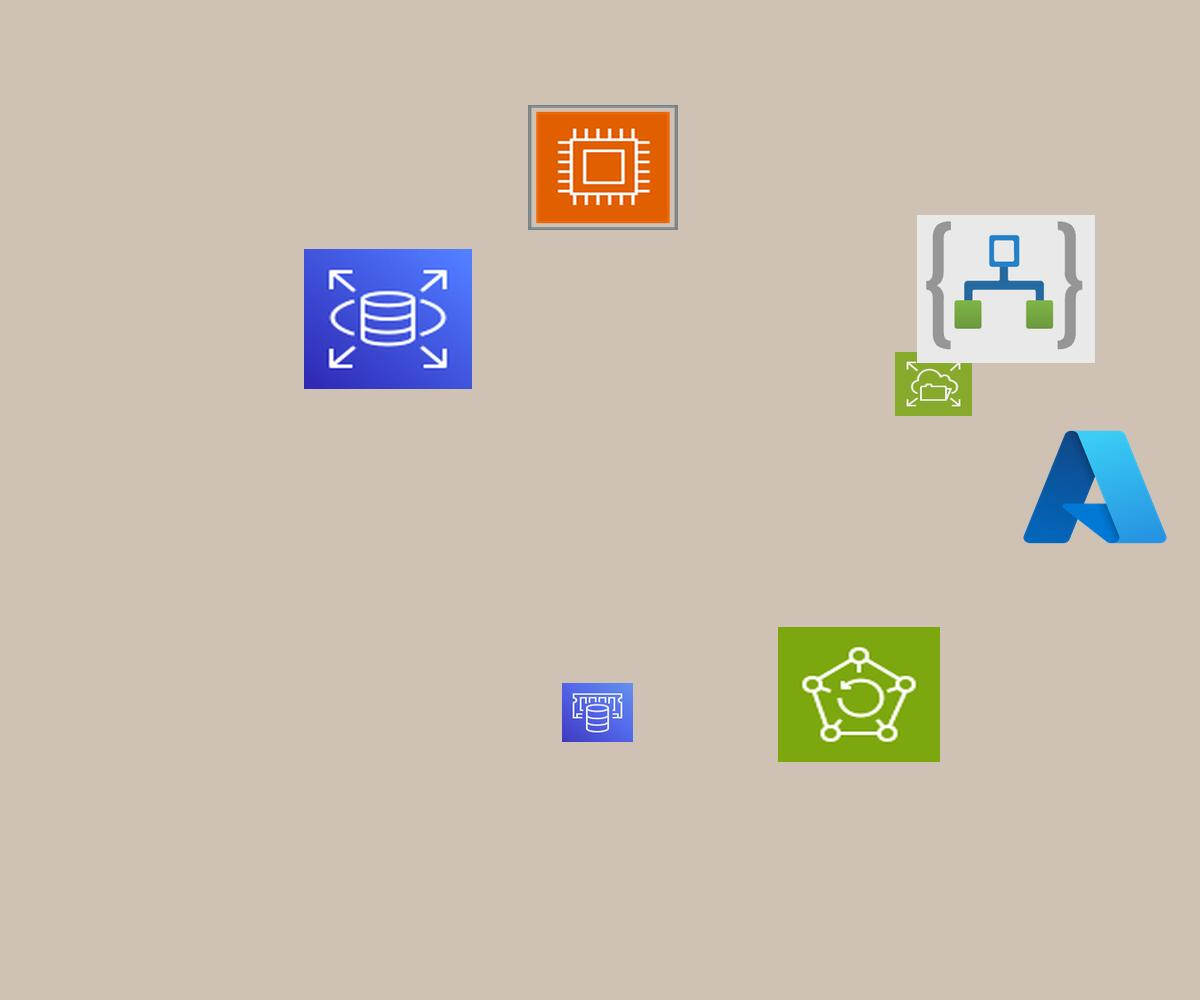AWS-Backup: (778, 627, 940, 762)
AWS-Category_Compute: (528, 105, 678, 230)
AWS-EFS: (895, 352, 972, 416)
AWS-ElastiCache: (562, 683, 633, 742)
AWS-RDS: (304, 249, 472, 389)
Azure_integration-204-Logic-Apps: (917, 215, 1095, 363)
Azure_services: (1017, 422, 1173, 552)
